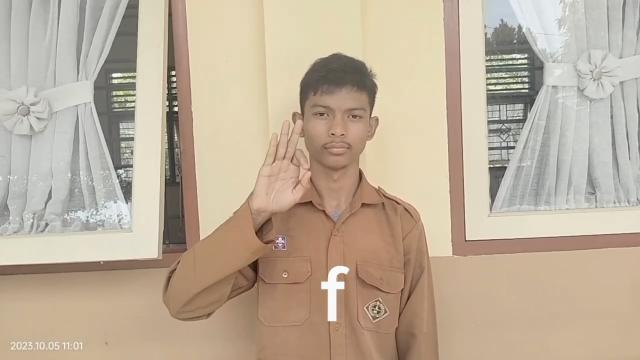F: (252, 117, 312, 211)
